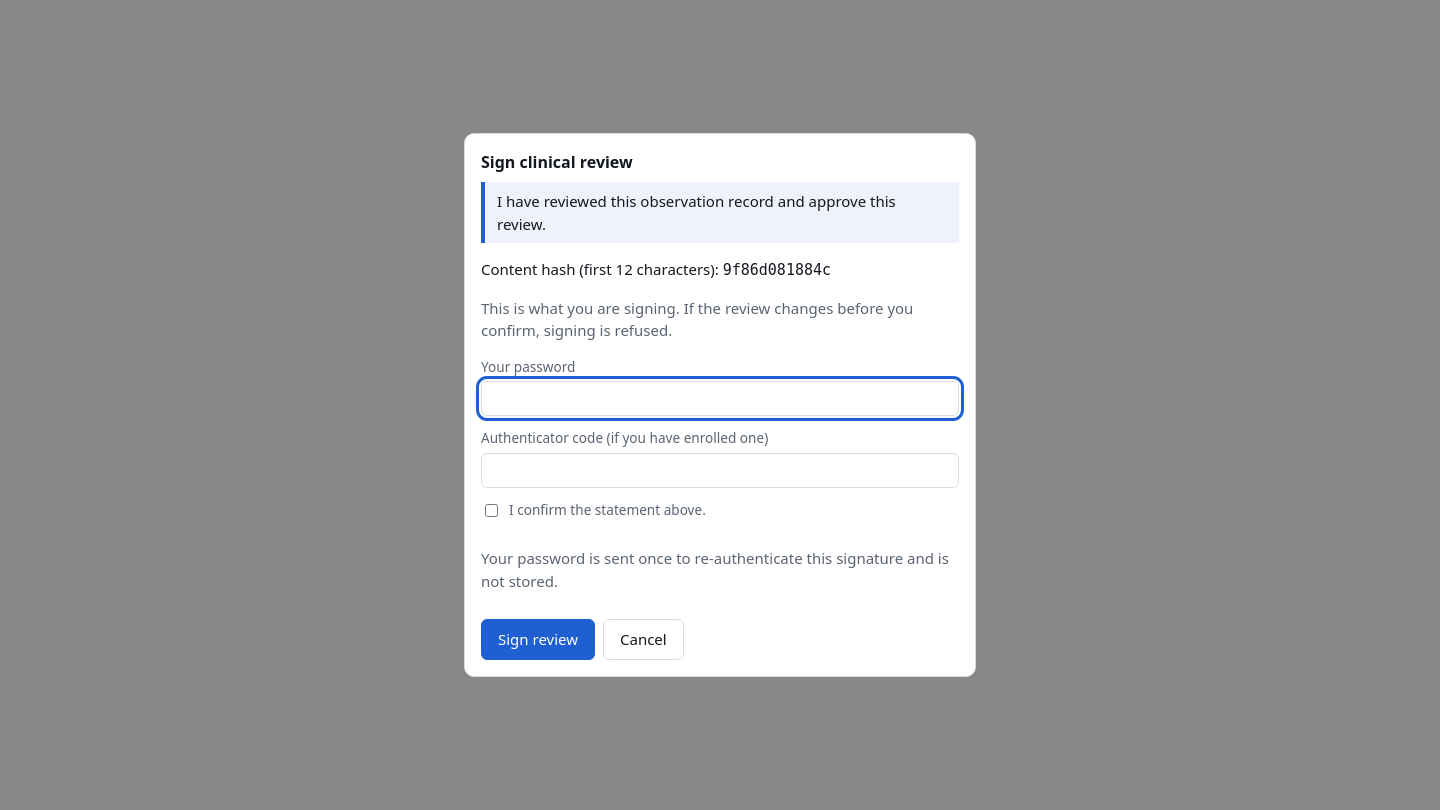
Test: SignDialog › explains clinical-crypto-unavailable clearly
Type "pw" into the password field labelled "Your password".
click(720, 399); type("pw")  # box [481,381,959,416]
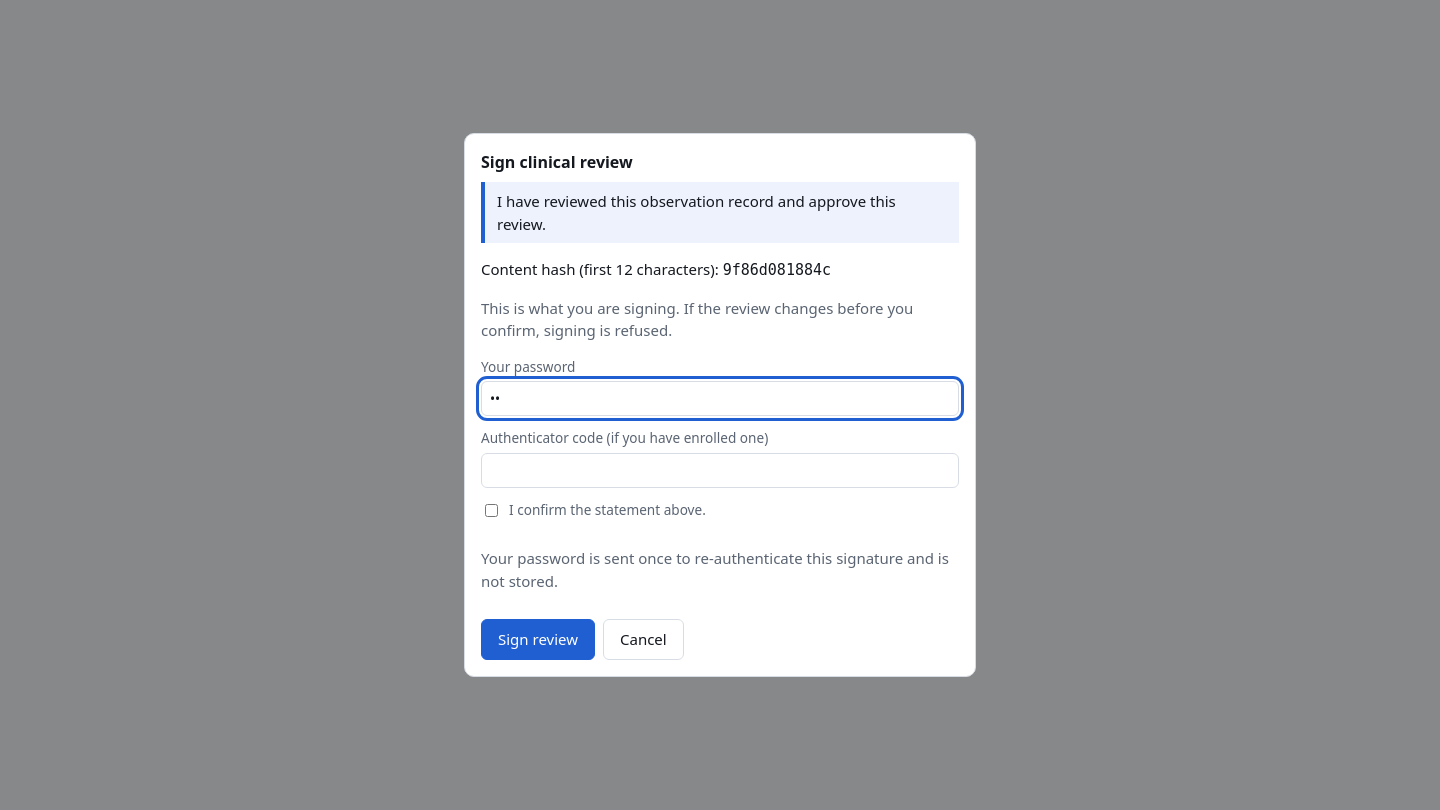
Click the checkbox labelled "I confirm the statement above.".
click(492, 510)  # box [485,504,498,516]
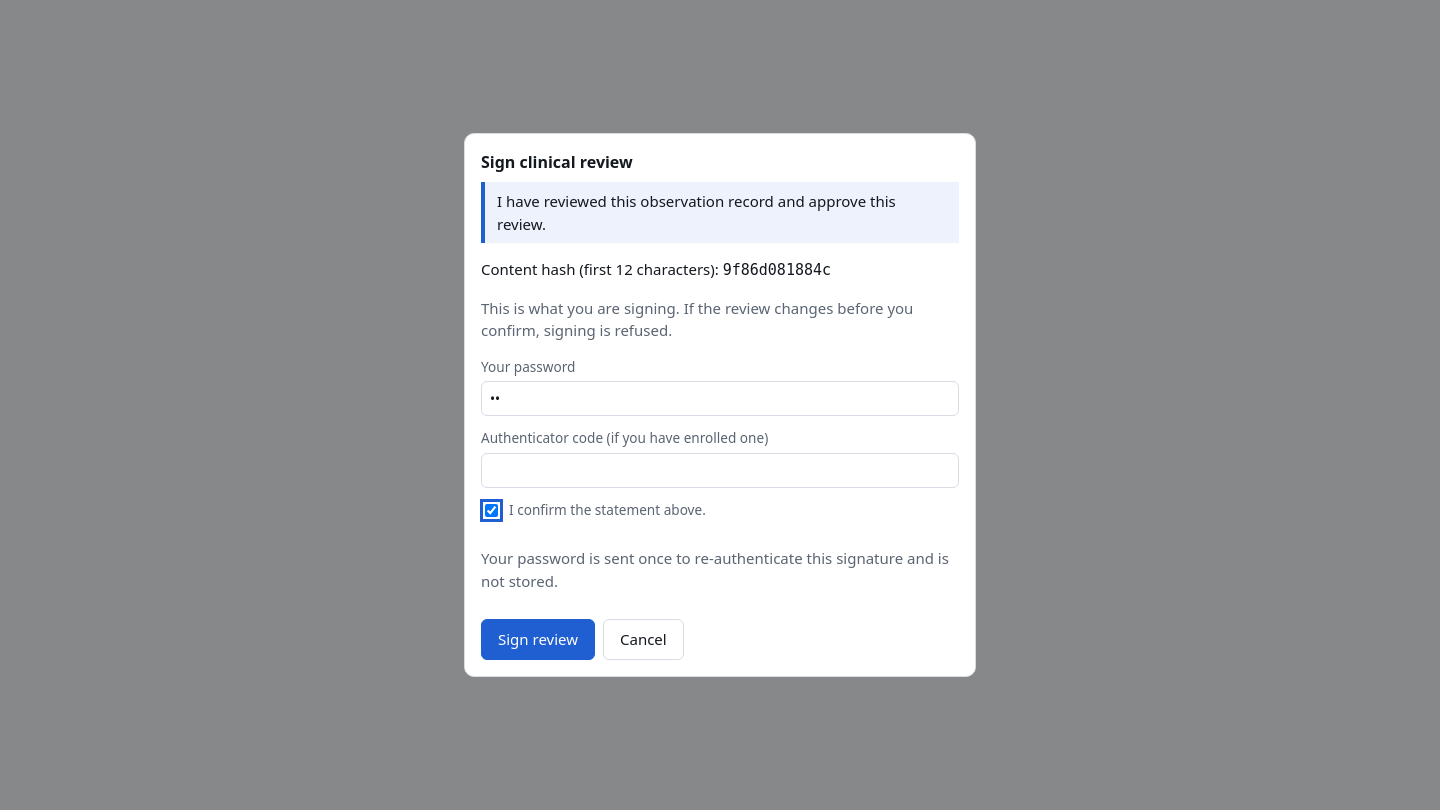
Click the button "Sign review".
click(538, 640)  # box [481,619,595,660]
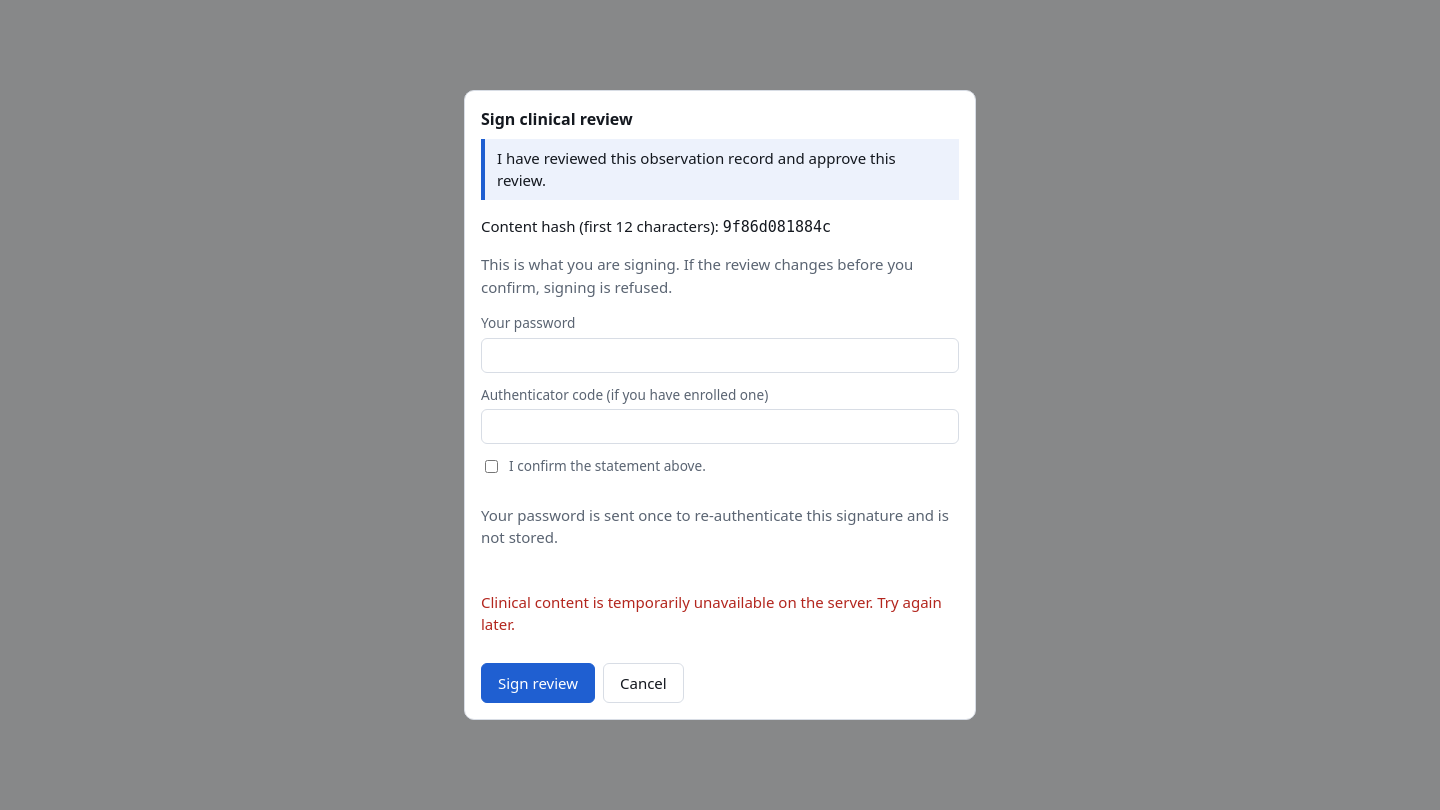
Now the message shows "temporarily unavailable", box [481,592,942,634]
